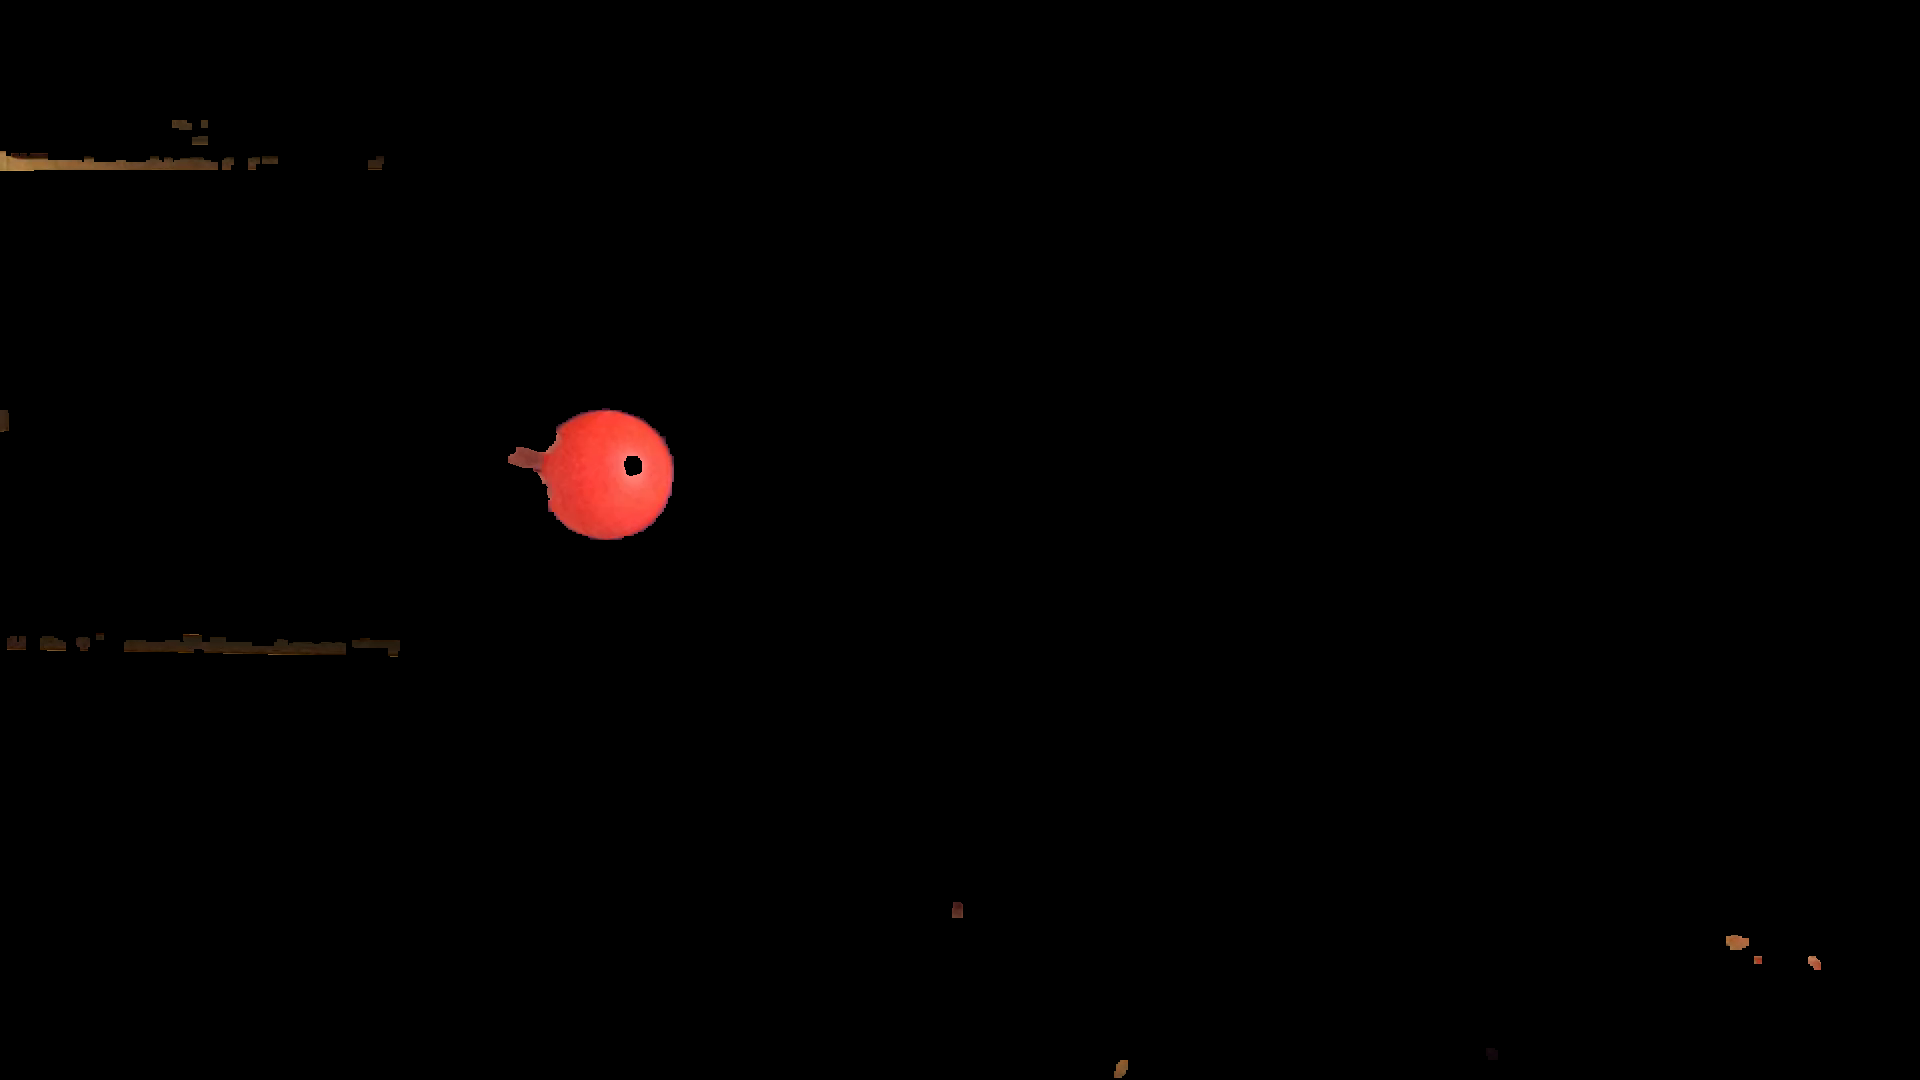Ball: (537, 411, 671, 537)
